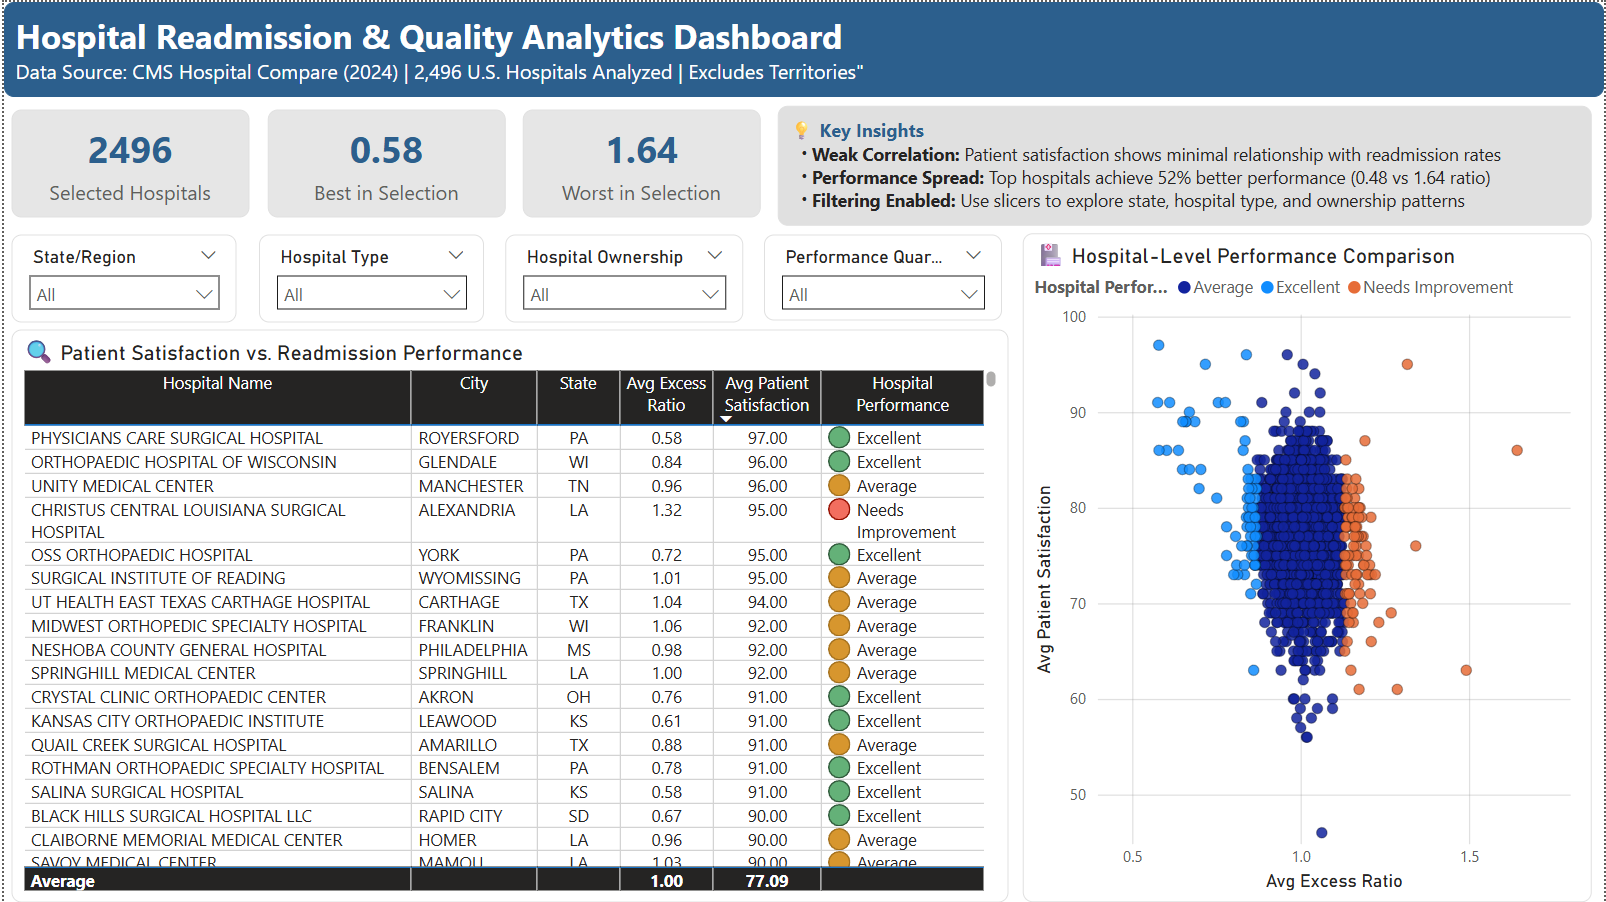

What the dashboard file says about the page in this screenshot:
{"tool":"powerbi","page":{"name":"Hospital Comparison","canvas":[1280,720],"ordinal":1},"visuals":[{"type":"scatterChart","title":"🏥 Hospital-Level Performance Comparison","fields":{"X":["_Measures.Avg Excess Ratio"],"Y":["_Measures.Avg Patient Satisfaction"],"Category":["Hospital General Info.Hospital Name"],"Series":["Hospital General Info.Hospital Performance"]},"box":[815,185,455,535],"z":0},{"type":"tableEx","title":"🔍 Patient Satisfaction vs. Readmission Performance","fields":{"Values":["Hospital General Info.Hospital Name","Hospital General Info.City","Hospital General Info.State","_Measures.Avg Excess Ratio","_Measures.Avg Patient Satisfaction","Hospital General Info.Hospital Performance"]},"box":[6,262,797,458],"z":1000},{"type":"card","fields":{"Values":["_Measures.Selected Hospitals"]},"box":[6.4,86.2,190,85.4],"z":2000},{"type":"card","fields":{"Values":["_Measures.Best in Selection"]},"box":[210.6,86.3,190.1,85.4],"z":3000},{"type":"card","fields":{"Values":["_Measures.Worst in Selection"]},"box":[415,86.3,190.1,85.4],"z":4000},{"type":"slicer","fields":{"Values":["Hospital General Info.Performance Quartile"]},"box":[607.8,185.6,190.1,69.8],"z":5000},{"type":"slicer","fields":{"Values":["Hospital General Info.Hospital Ownership"]},"box":[400.6,185.5,190.1,70.7],"z":6000},{"type":"slicer","fields":{"Values":["Hospital General Info.Hospital Type"]},"box":[203.5,185.5,180,70.7],"z":7000},{"type":"actionButton","box":[0,0,100,40],"z":8000},{"type":"textbox","box":[0,0,1280,76],"z":9000},{"type":"slicer","fields":{"Values":["Hospital General Info.State"]},"box":[6.4,186.4,180,69.8],"z":10000},{"type":"textbox","box":[619.3,83.3,651.2,95.7],"z":11000}]}

Visuals, with their boxes in screenshot pixels (x1, y1, x2, y2), scaled from the page's 1280x720 canvas onto the 1606x902 screenshot:
"🏥 Hospital-Level Performance Comparison" scatterChart: (x1=1023, y1=232, x2=1593, y2=901)
"🔍 Patient Satisfaction vs. Readmission Performance" tableEx: (x1=8, y1=328, x2=1008, y2=901)
card - _Measures.Selected Hospitals: (x1=8, y1=108, x2=246, y2=215)
card - _Measures.Best in Selection: (x1=264, y1=108, x2=503, y2=215)
card - _Measures.Worst in Selection: (x1=521, y1=108, x2=759, y2=215)
slicer - Hospital General Info.Performance Quartile: (x1=763, y1=233, x2=1001, y2=320)
slicer - Hospital General Info.Hospital Ownership: (x1=503, y1=232, x2=741, y2=321)
slicer - Hospital General Info.Hospital Type: (x1=255, y1=232, x2=481, y2=321)
actionButton: (x1=0, y1=0, x2=125, y2=50)
textbox: (x1=0, y1=0, x2=1605, y2=95)
slicer - Hospital General Info.State: (x1=8, y1=234, x2=234, y2=321)
textbox: (x1=777, y1=104, x2=1594, y2=224)
